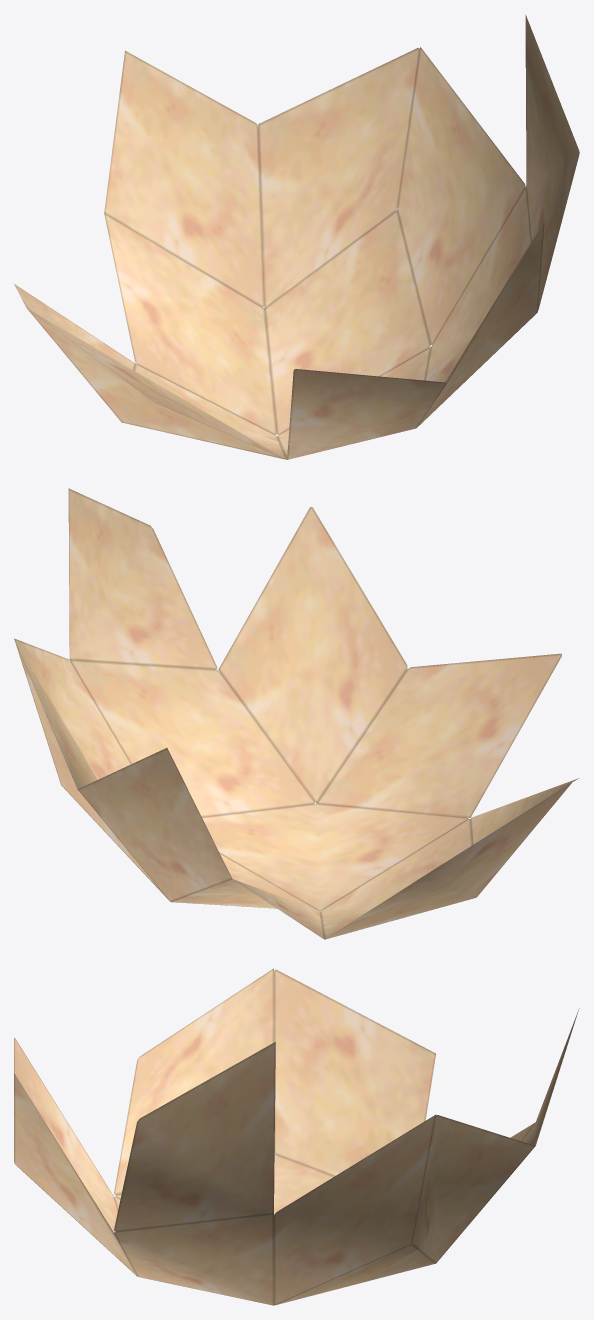
3 views of the same model, one above another, from view 1: azimuth 30°, elevation 25°; view 2: azimuth 150°, elevation 25°; view 3: azimuth 270°, elevation 25° (orthographic).
Visible parts, largest first — view 1: T1L8M006_9; view 2: T1L8M006_9; view 3: T1L8M006_9.
Part boxes in pixels (<box>): T1L8M006_9: <box>14,15,579,459</box>; T1L8M006_9: <box>14,488,578,939</box>; T1L8M006_9: <box>14,968,579,1305</box>.
Bounding box in the file's own units: 0.3076 × 0.2119 × 0.2998.
